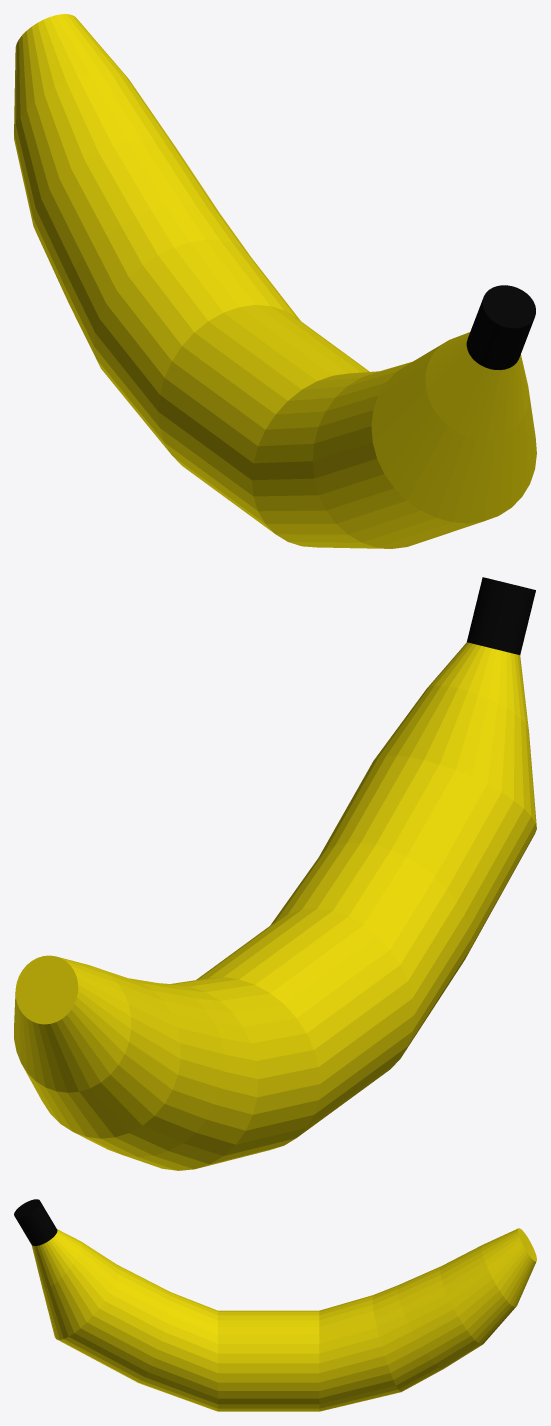
Rendered from banan.fbx.
3 views of the same model, one above another, from view 1: azimuth 30°, elevation 25°; view 2: azimuth 150°, elevation 25°; view 3: azimuth 270°, elevation 25° (orthographic). The views are drawn at different scales.
Visible parts, largest first — view 1: Cylinder; view 2: Cylinder; view 3: Cylinder.
Boxes of the visible parts, x1,y1,x2,y2 form: Cylinder: [14, 14, 536, 548]; Cylinder: [14, 577, 536, 1170]; Cylinder: [14, 1199, 536, 1411].
Size of the model in its own units: 81.72 by 183 by 422.
